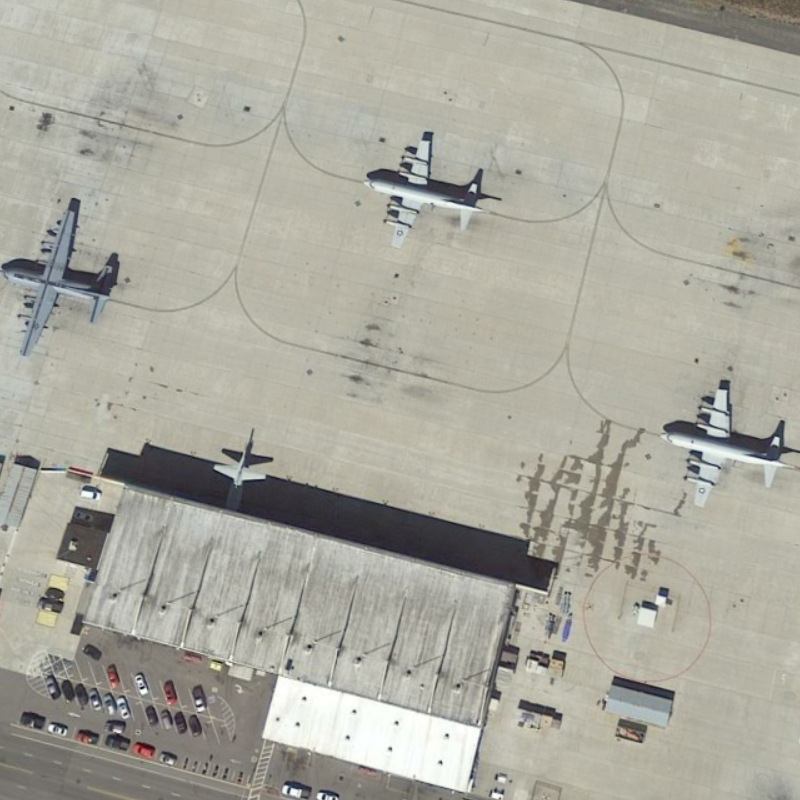A2: (1, 205, 115, 359)
A9: (657, 380, 800, 512), (362, 132, 489, 252)
